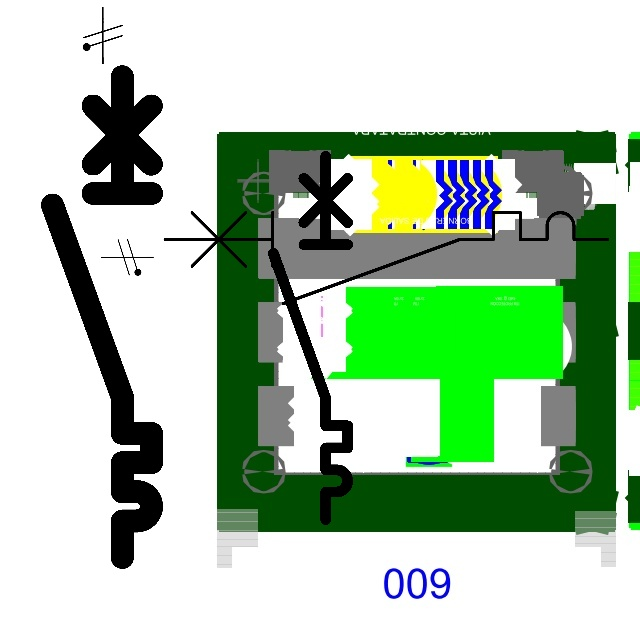interruptor_termomagnetico: (40, 64, 164, 570), (153, 201, 619, 315), (264, 147, 357, 529)
